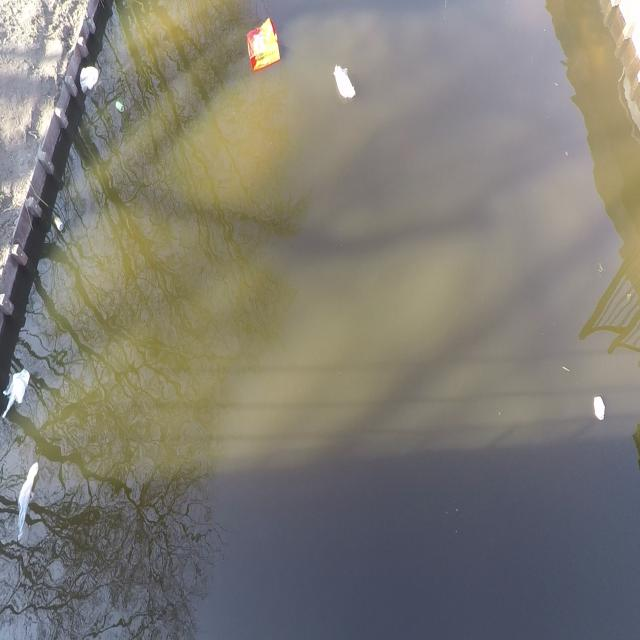Non plastique: (52, 210, 66, 239), (114, 99, 127, 118)
Sac plastique: (14, 455, 43, 553), (240, 15, 286, 76), (2, 362, 32, 431), (78, 61, 101, 97)
